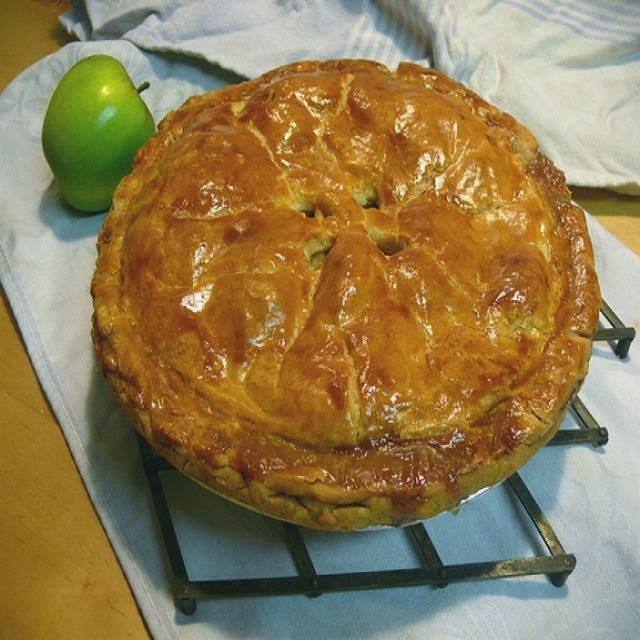Apple: (96, 62, 598, 528)
